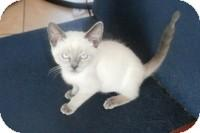siamese: (46, 17, 106, 79)
